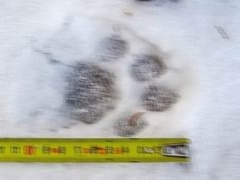rat: (122, 55, 169, 108), (65, 51, 115, 96)
